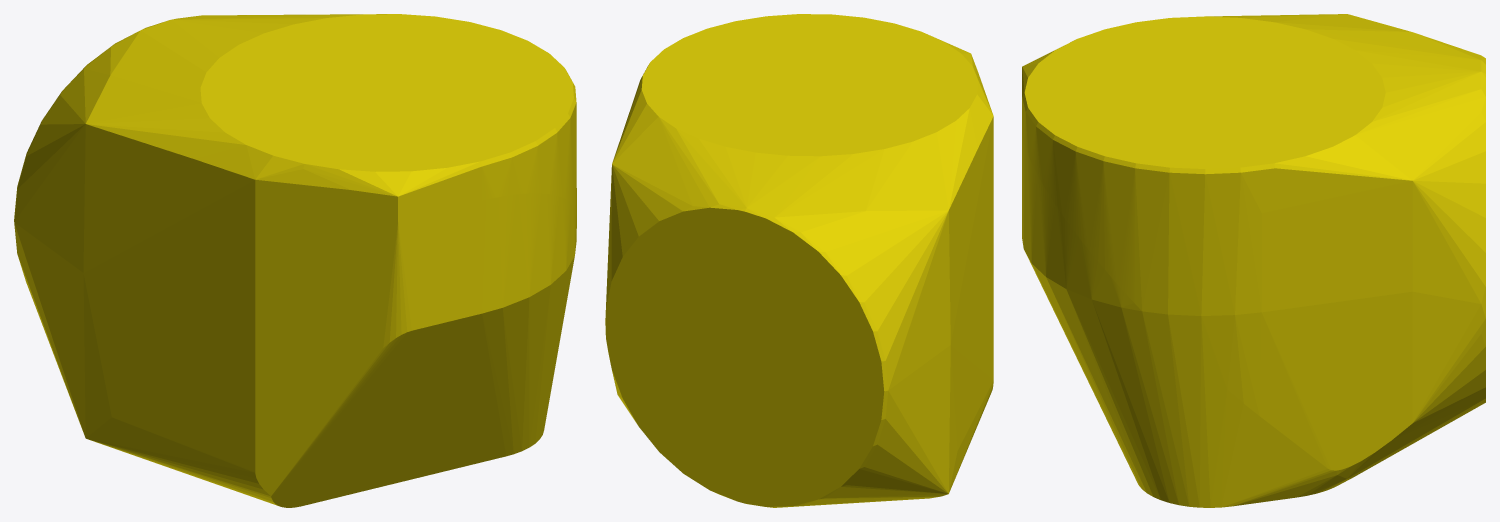
The model's file is shoulder_link_collision.dae.
3 renders of one model, left to right at view 1: azimuth 30°, elevation 25°; view 2: azimuth 150°, elevation 25°; view 3: azimuth 270°, elevation 25°, orthographic. The views are drawn at different scales.
Parts seen in each view (by area): view 1: node; view 2: node; view 3: node.
Boxes of the visible parts, x1=… form: node: x1=14, y1=14, x2=576, y2=507; node: x1=605, y1=14, x2=993, y2=507; node: x1=1022, y1=14, x2=1485, y2=507.
Bounding box in the file's own units: 0.54 × 0.468 × 0.57.
1 material, 1 textured.
